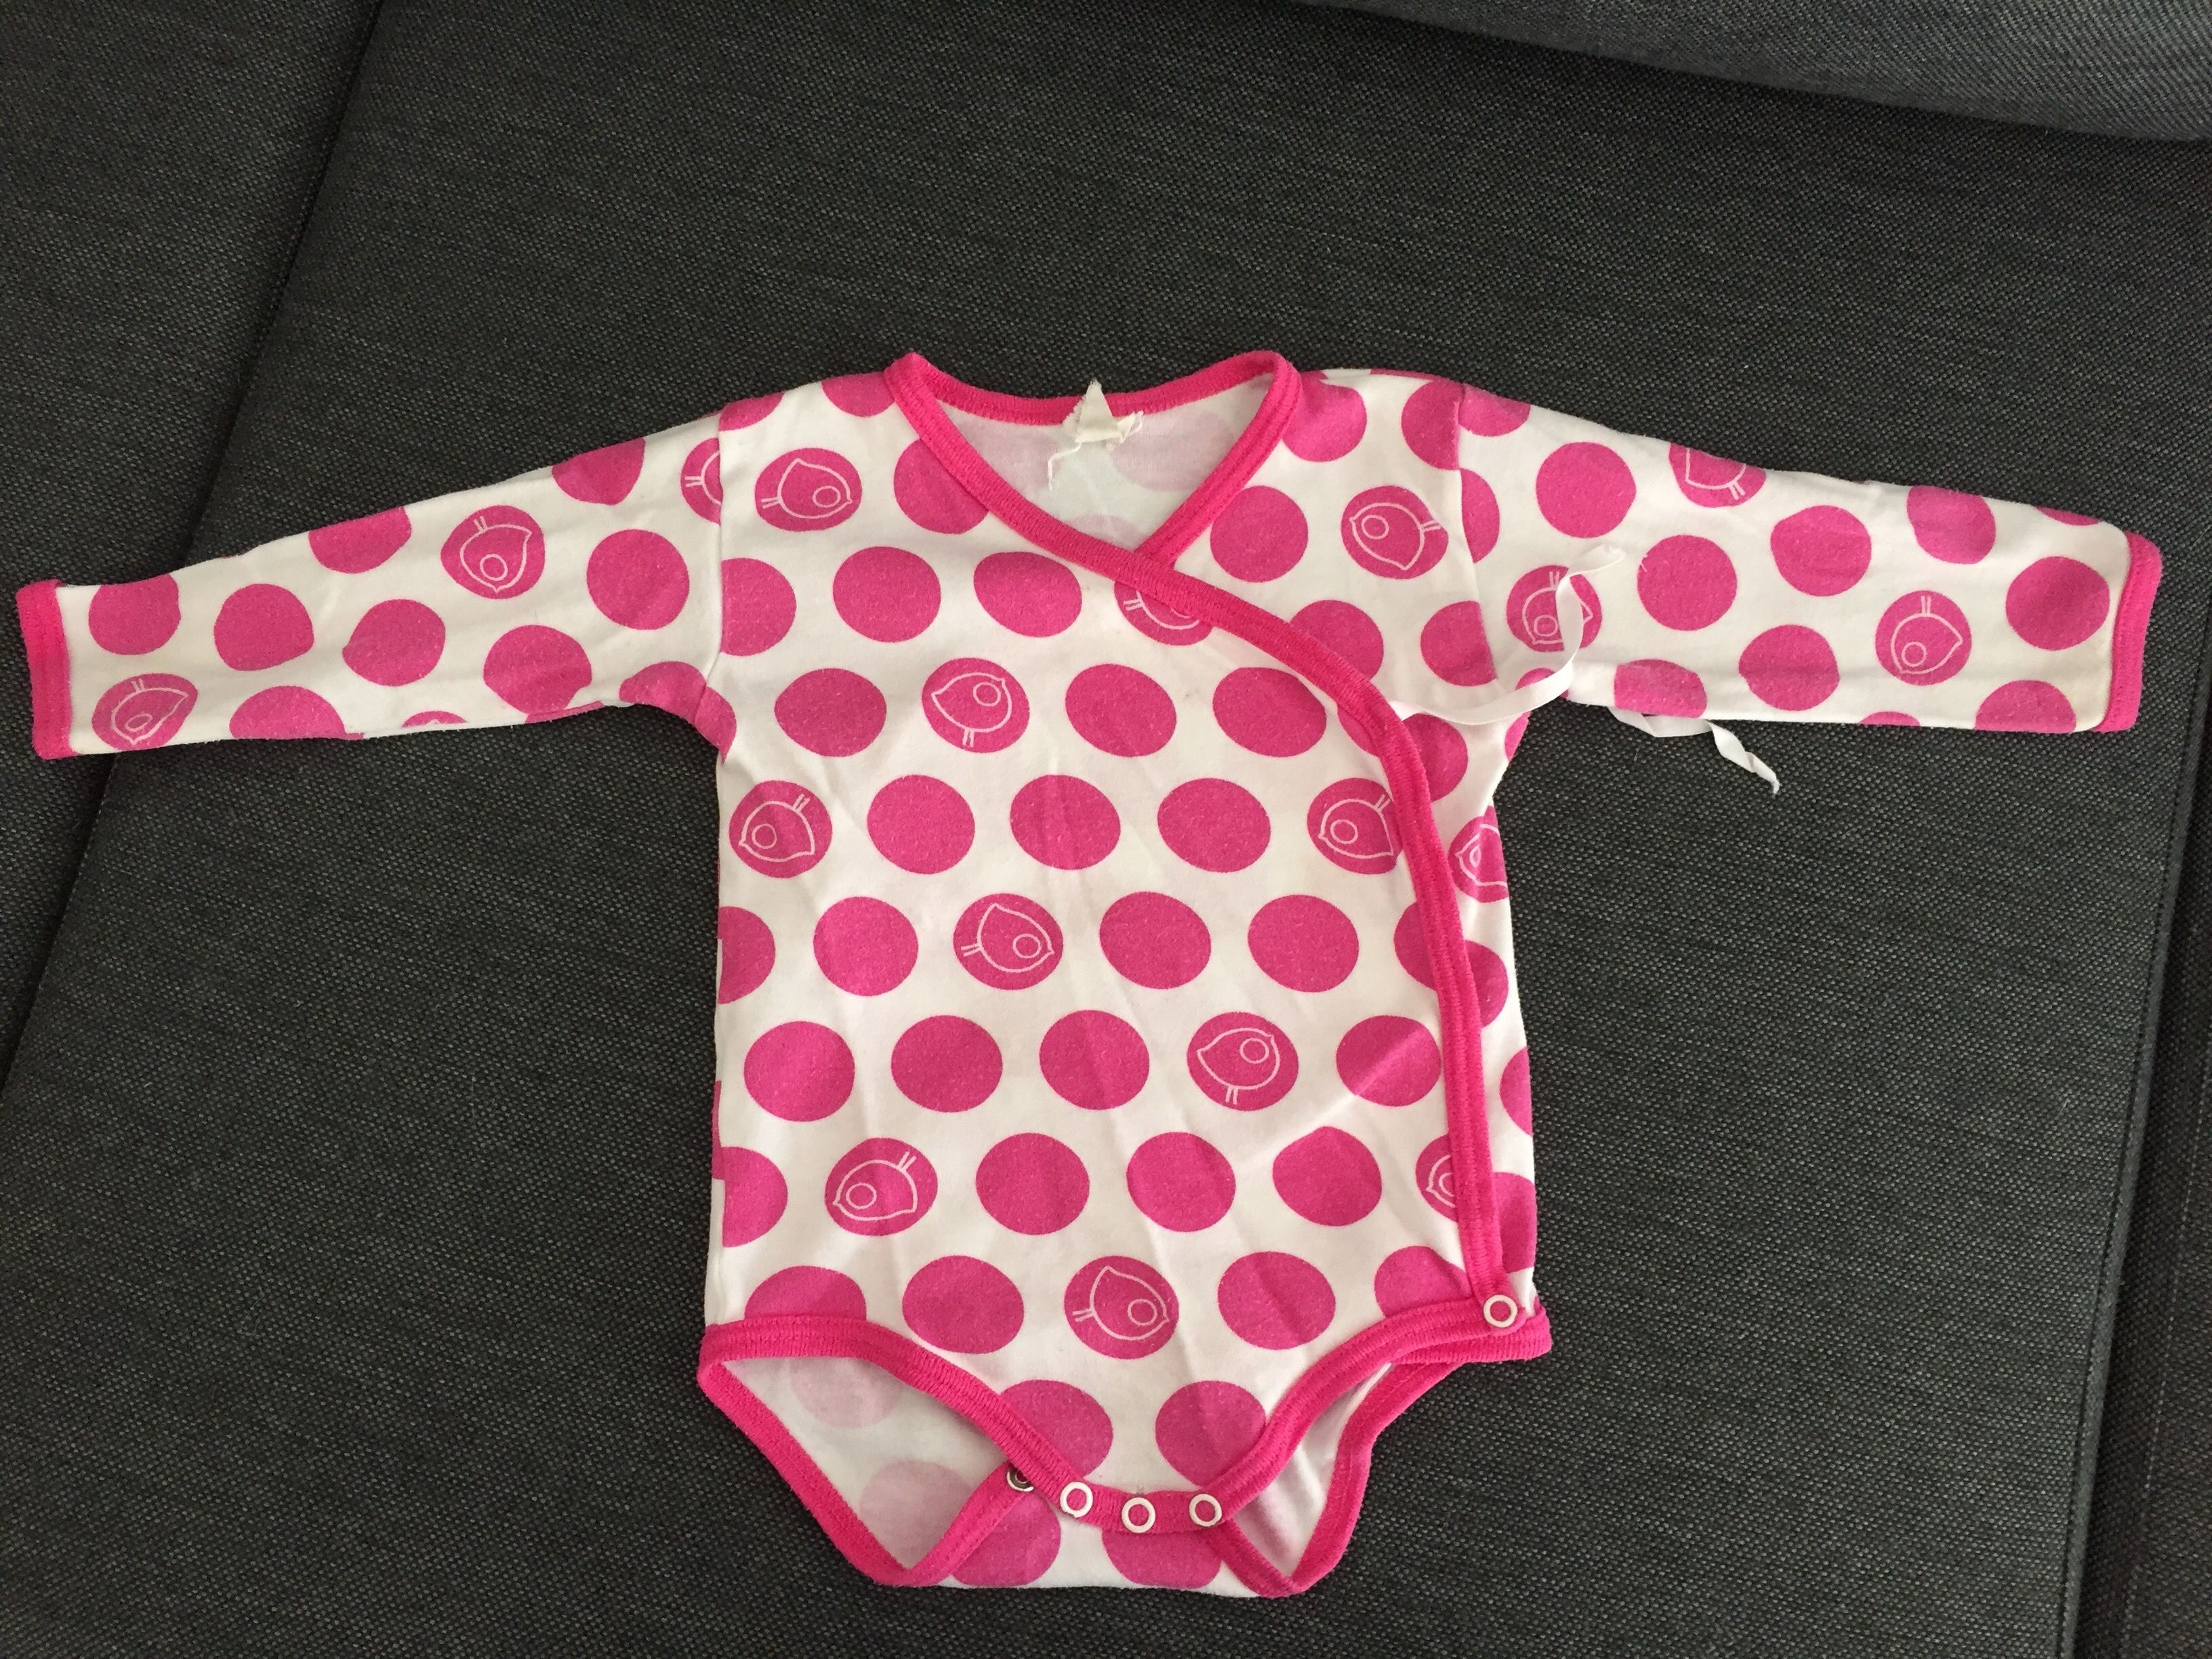clothes: (38, 329, 2181, 1610)
